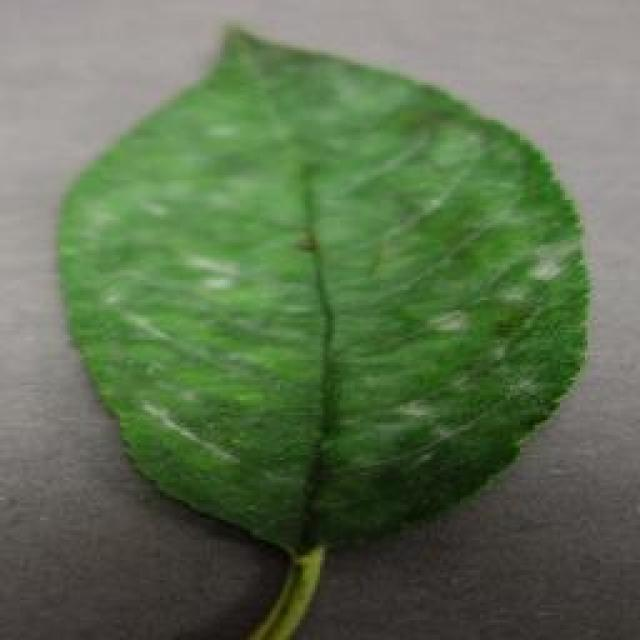Cherry___Powdery_mildew: (37, 5, 605, 640)
